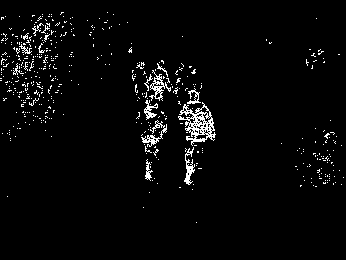person: (185, 89, 219, 189), (136, 95, 164, 184)
